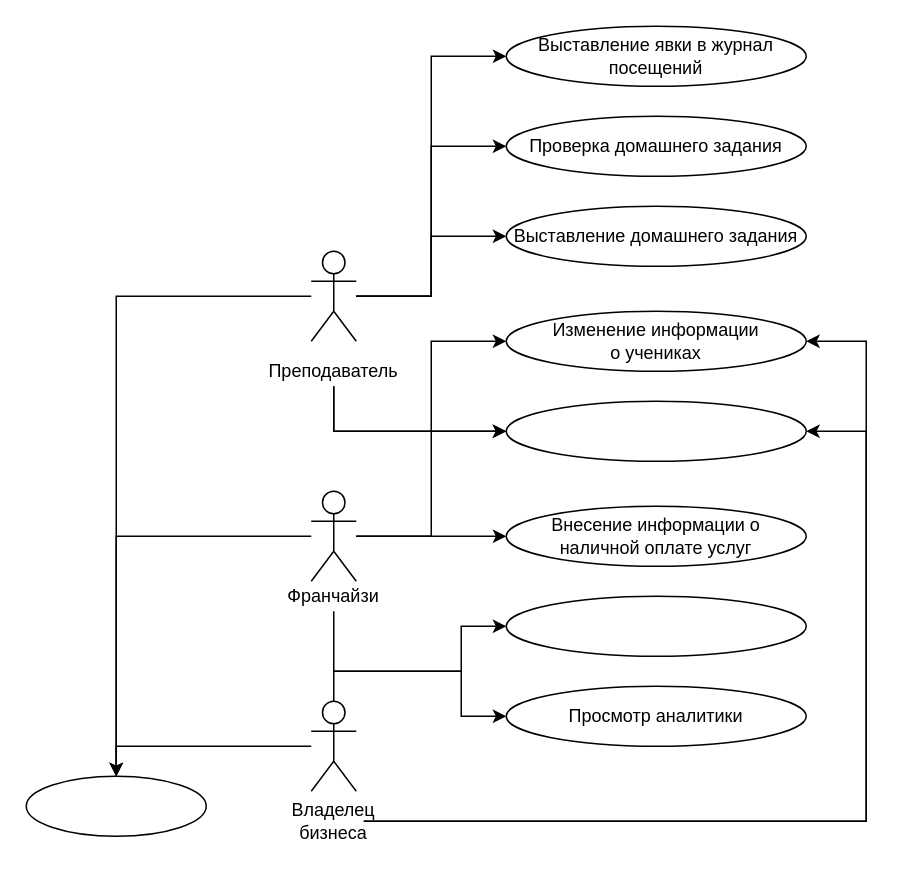
This 905x869 diagram has some shape labels left out. The shapes that lost their labels are listed below. From the top down, each one's centre as x and y in pixels, then its label:
the point at 655,430: Изменение информации о группах
the point at 655,625: Изменение информации о преподавателях
the point at 115,805: Вход в систему
